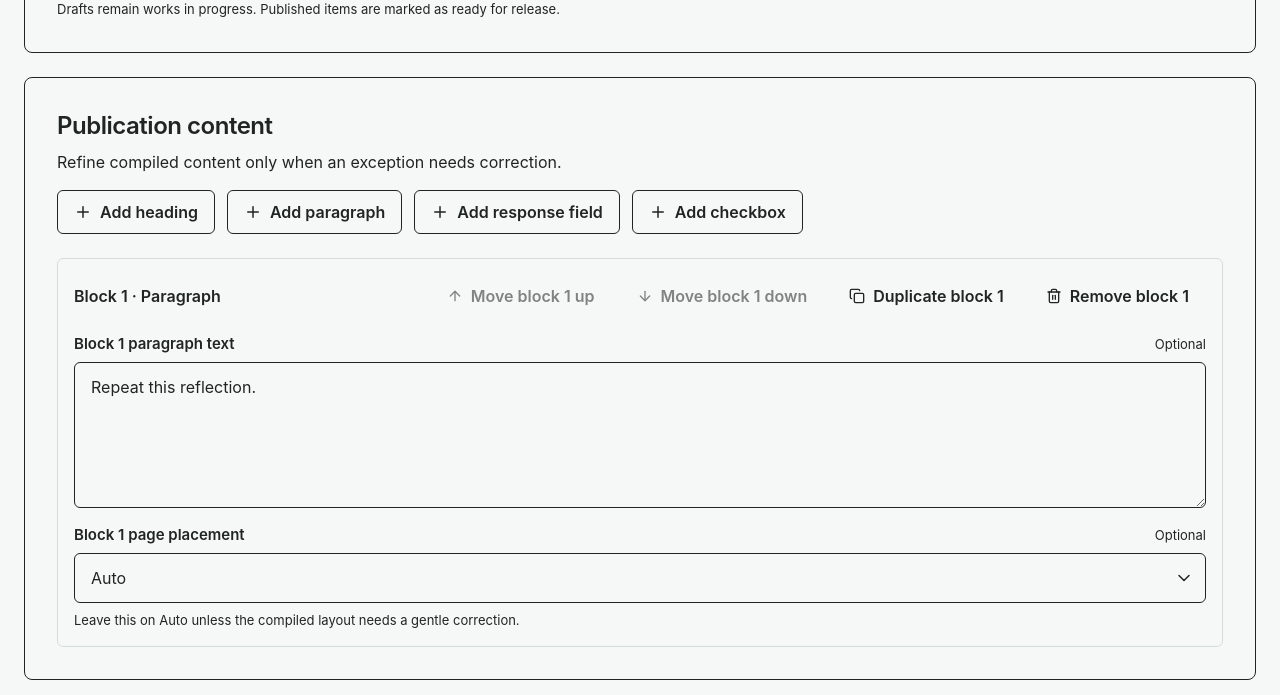
Test: PublicationEditorPage › duplicates a content block directly after its source
(page scrolled)
Click the button "Duplicate block 1".
click(926, 296)  # box [832,274,1021,316]
(page scrolled)
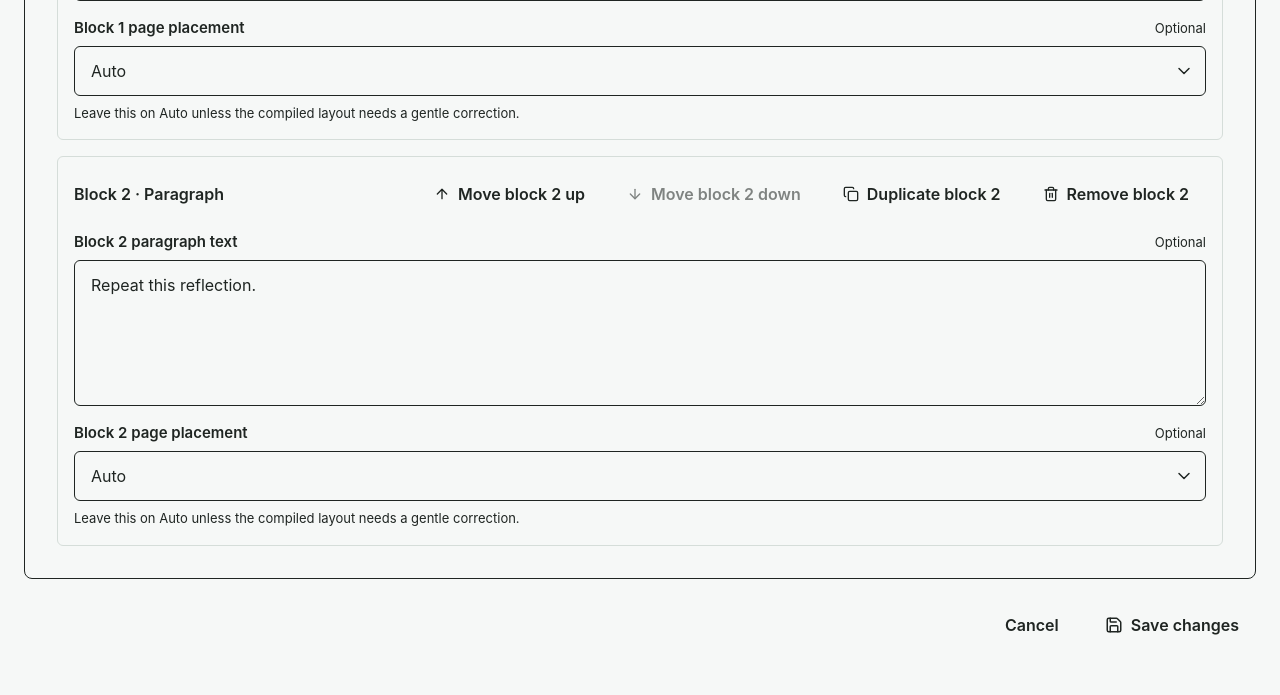
Check: the text box labelled "Block 2 paragraph text" holds "Repeat this reflection.", box [74,260,1206,406]
